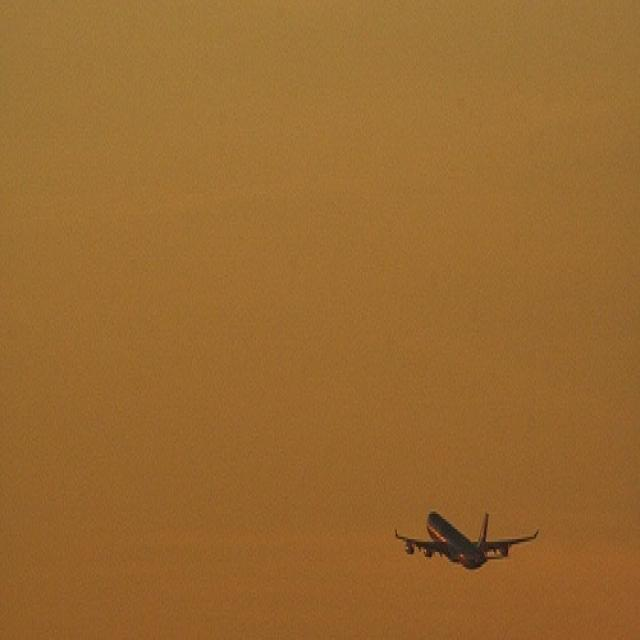aeroplane: (395, 503, 545, 571)
